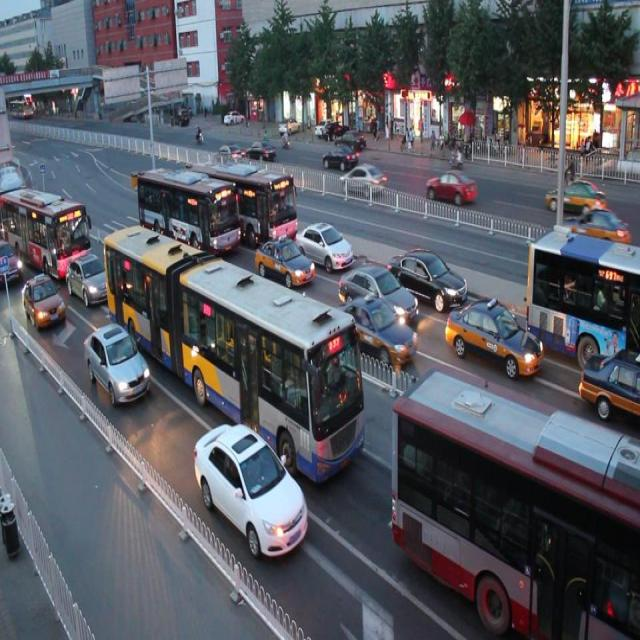car: (194, 418, 307, 559), (446, 294, 544, 382), (330, 296, 416, 366), (84, 320, 150, 408), (337, 258, 416, 331), (390, 243, 468, 309), (578, 342, 640, 420), (253, 230, 314, 289), (294, 214, 352, 273), (65, 251, 115, 307), (22, 271, 66, 332), (1, 238, 24, 292)
van: (102, 218, 366, 482), (390, 371, 640, 640), (524, 225, 640, 360), (136, 160, 240, 262), (191, 153, 298, 248), (1, 182, 90, 272)
